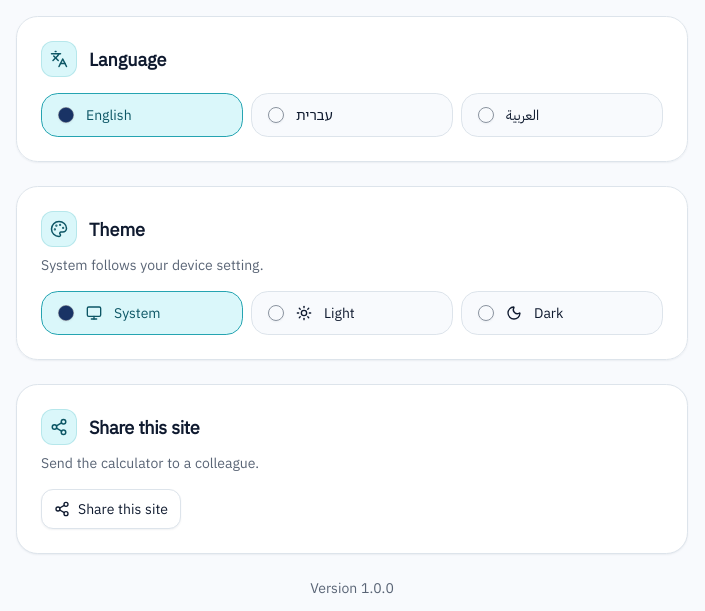
Scenario: Settings › copies the site URL otherwise
Click the button "Share this site" at {"x": 111, "y": 509}, box [41,489,181,529]
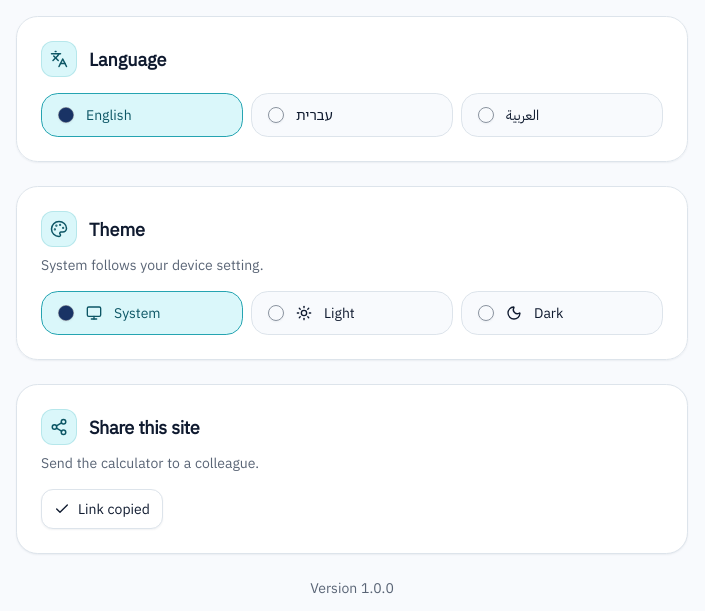
Expected: the button "Link copied" is shown, [41,489,163,529]
